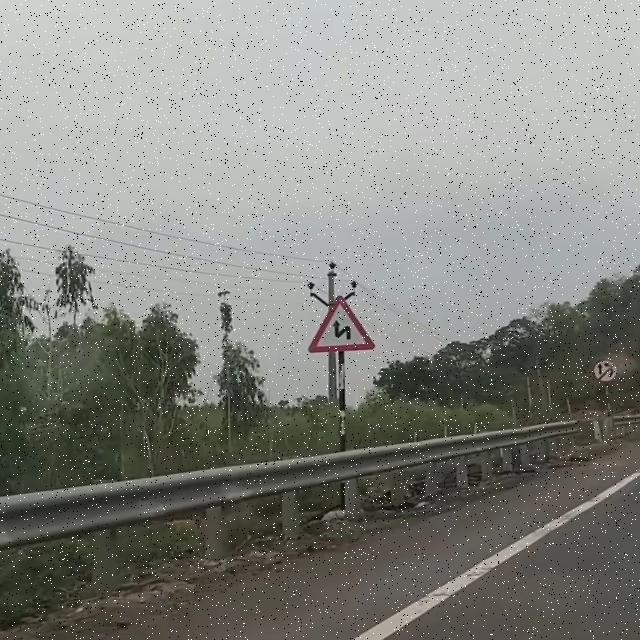Double curve first to left: (309, 300, 374, 353)
